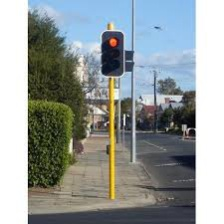semaforo: (101, 31, 124, 77)
